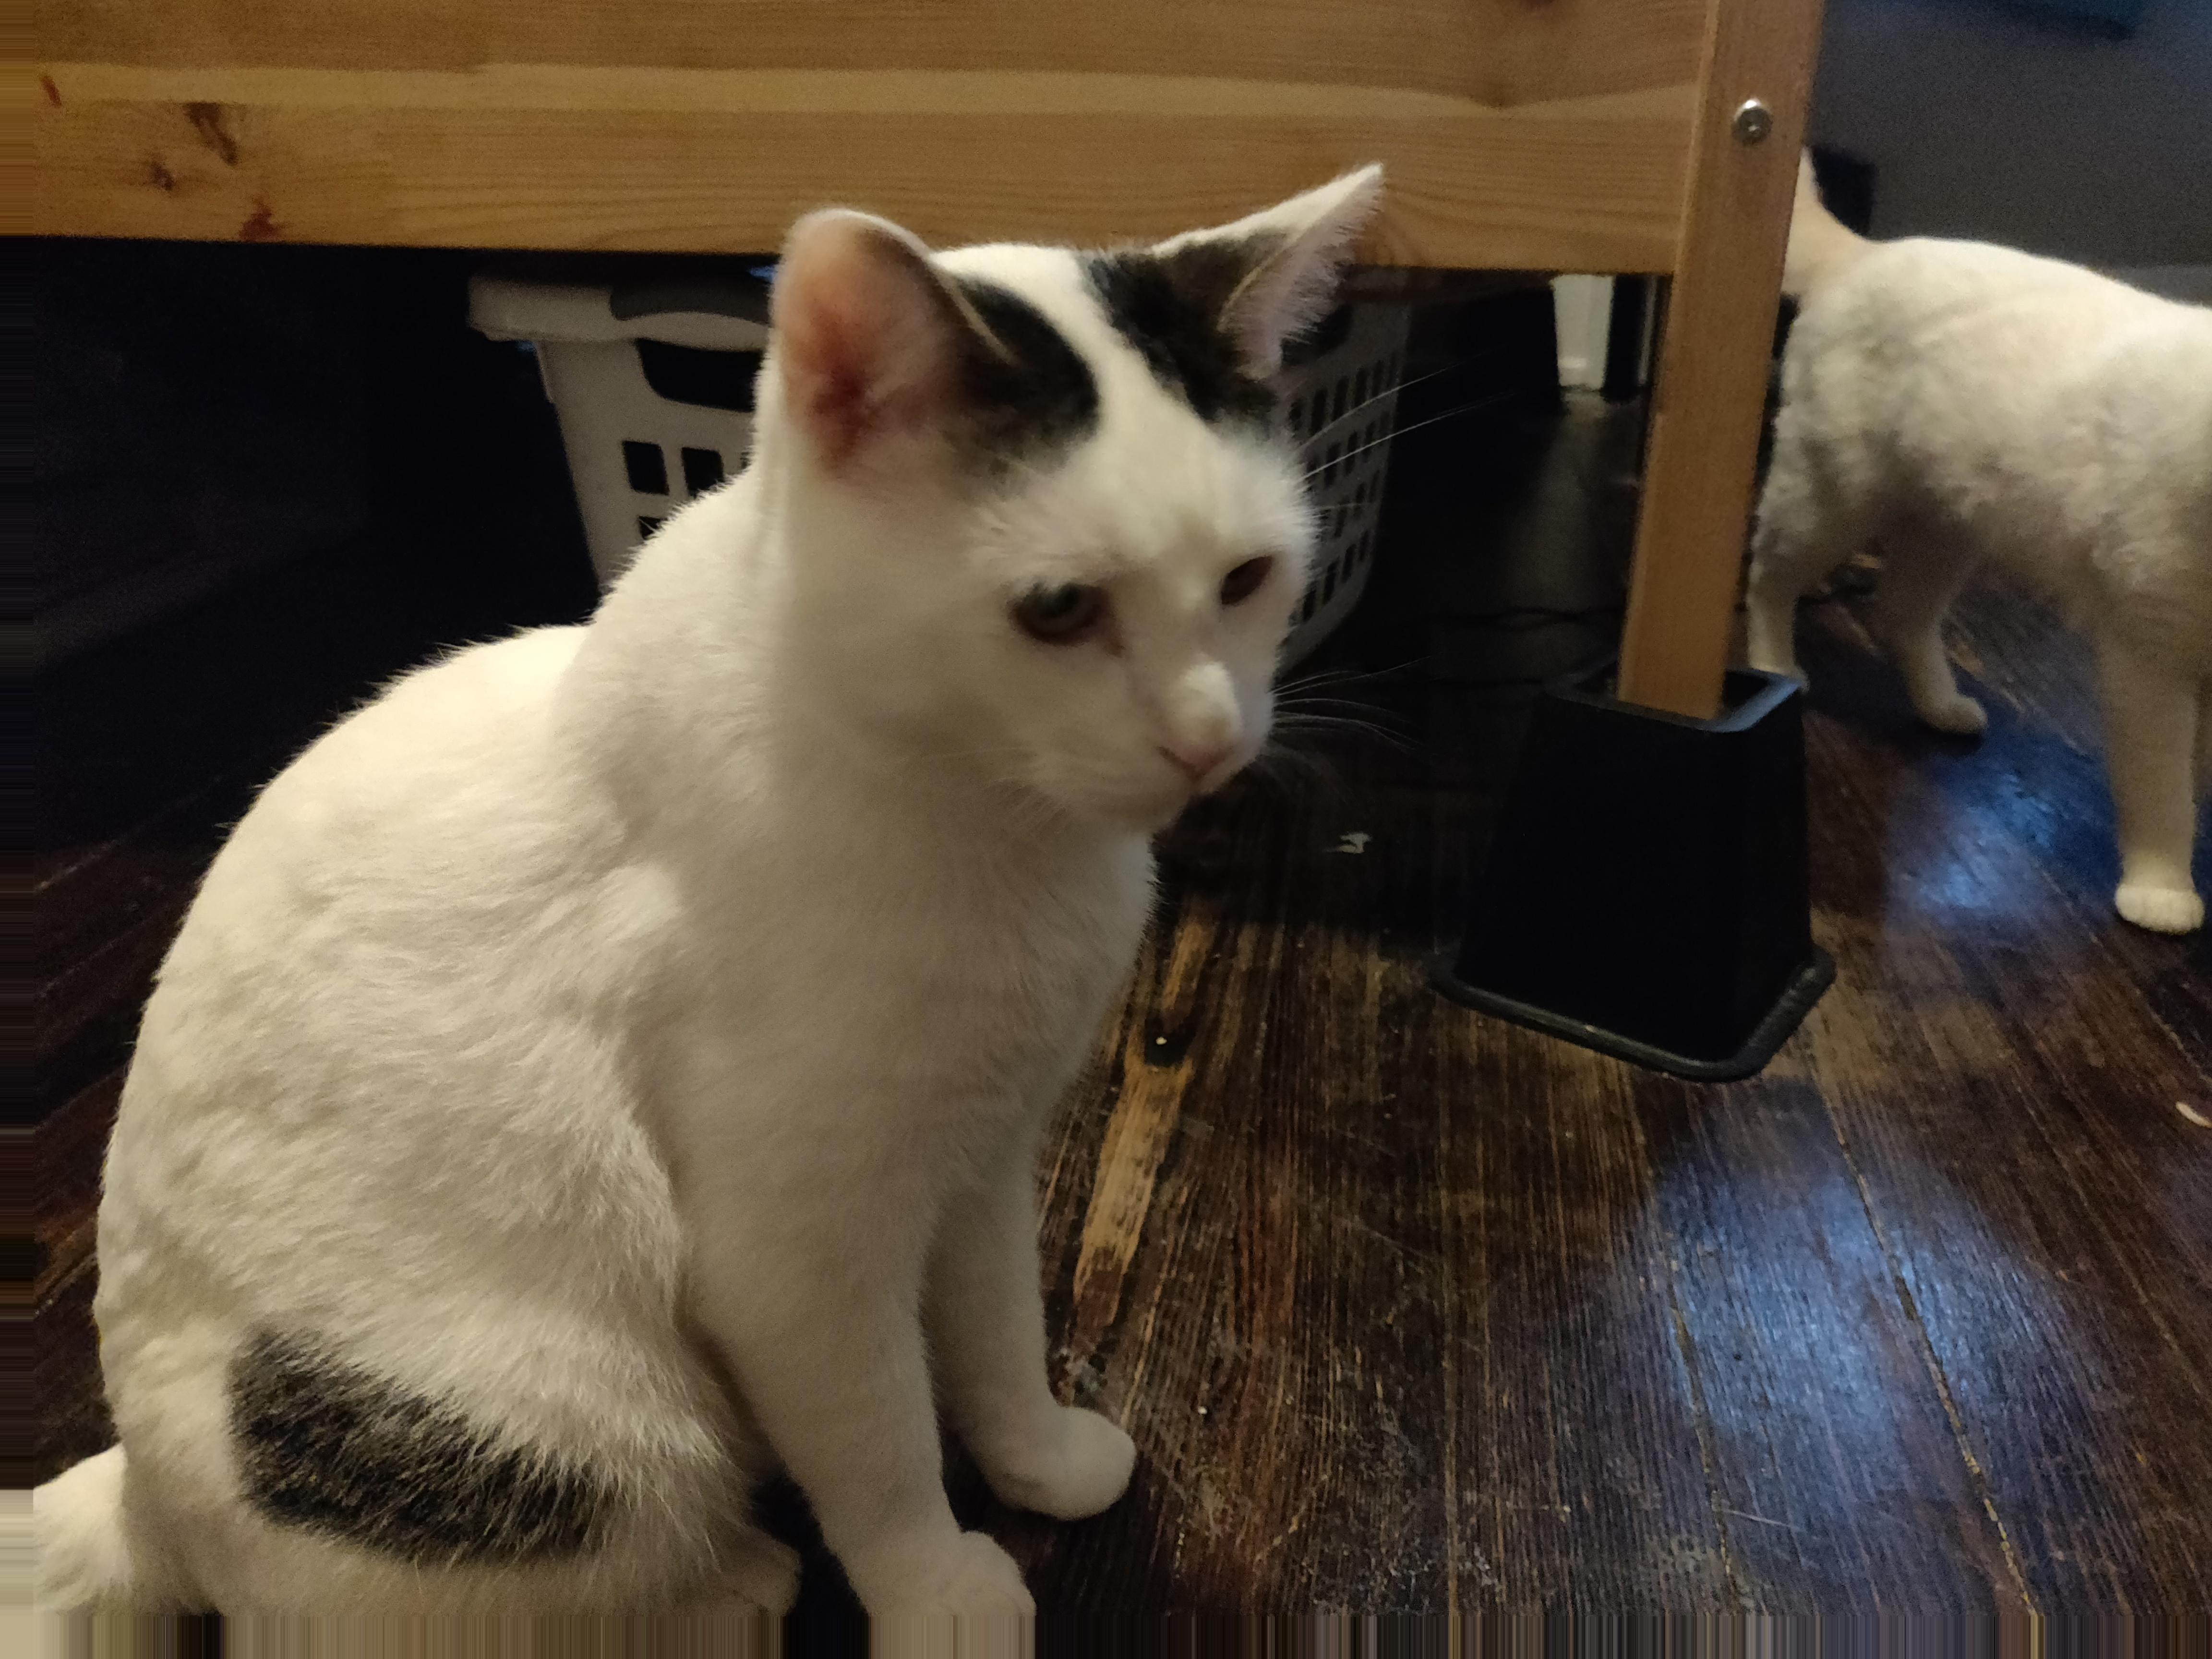cat: (0, 168, 1370, 1647), (1793, 138, 2212, 906)
